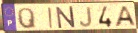4: (98, 5, 114, 28)
A: (114, 5, 137, 28)
I: (47, 7, 55, 29)
J: (79, 7, 94, 28)
N: (55, 5, 77, 30)
Q: (16, 7, 38, 30)
